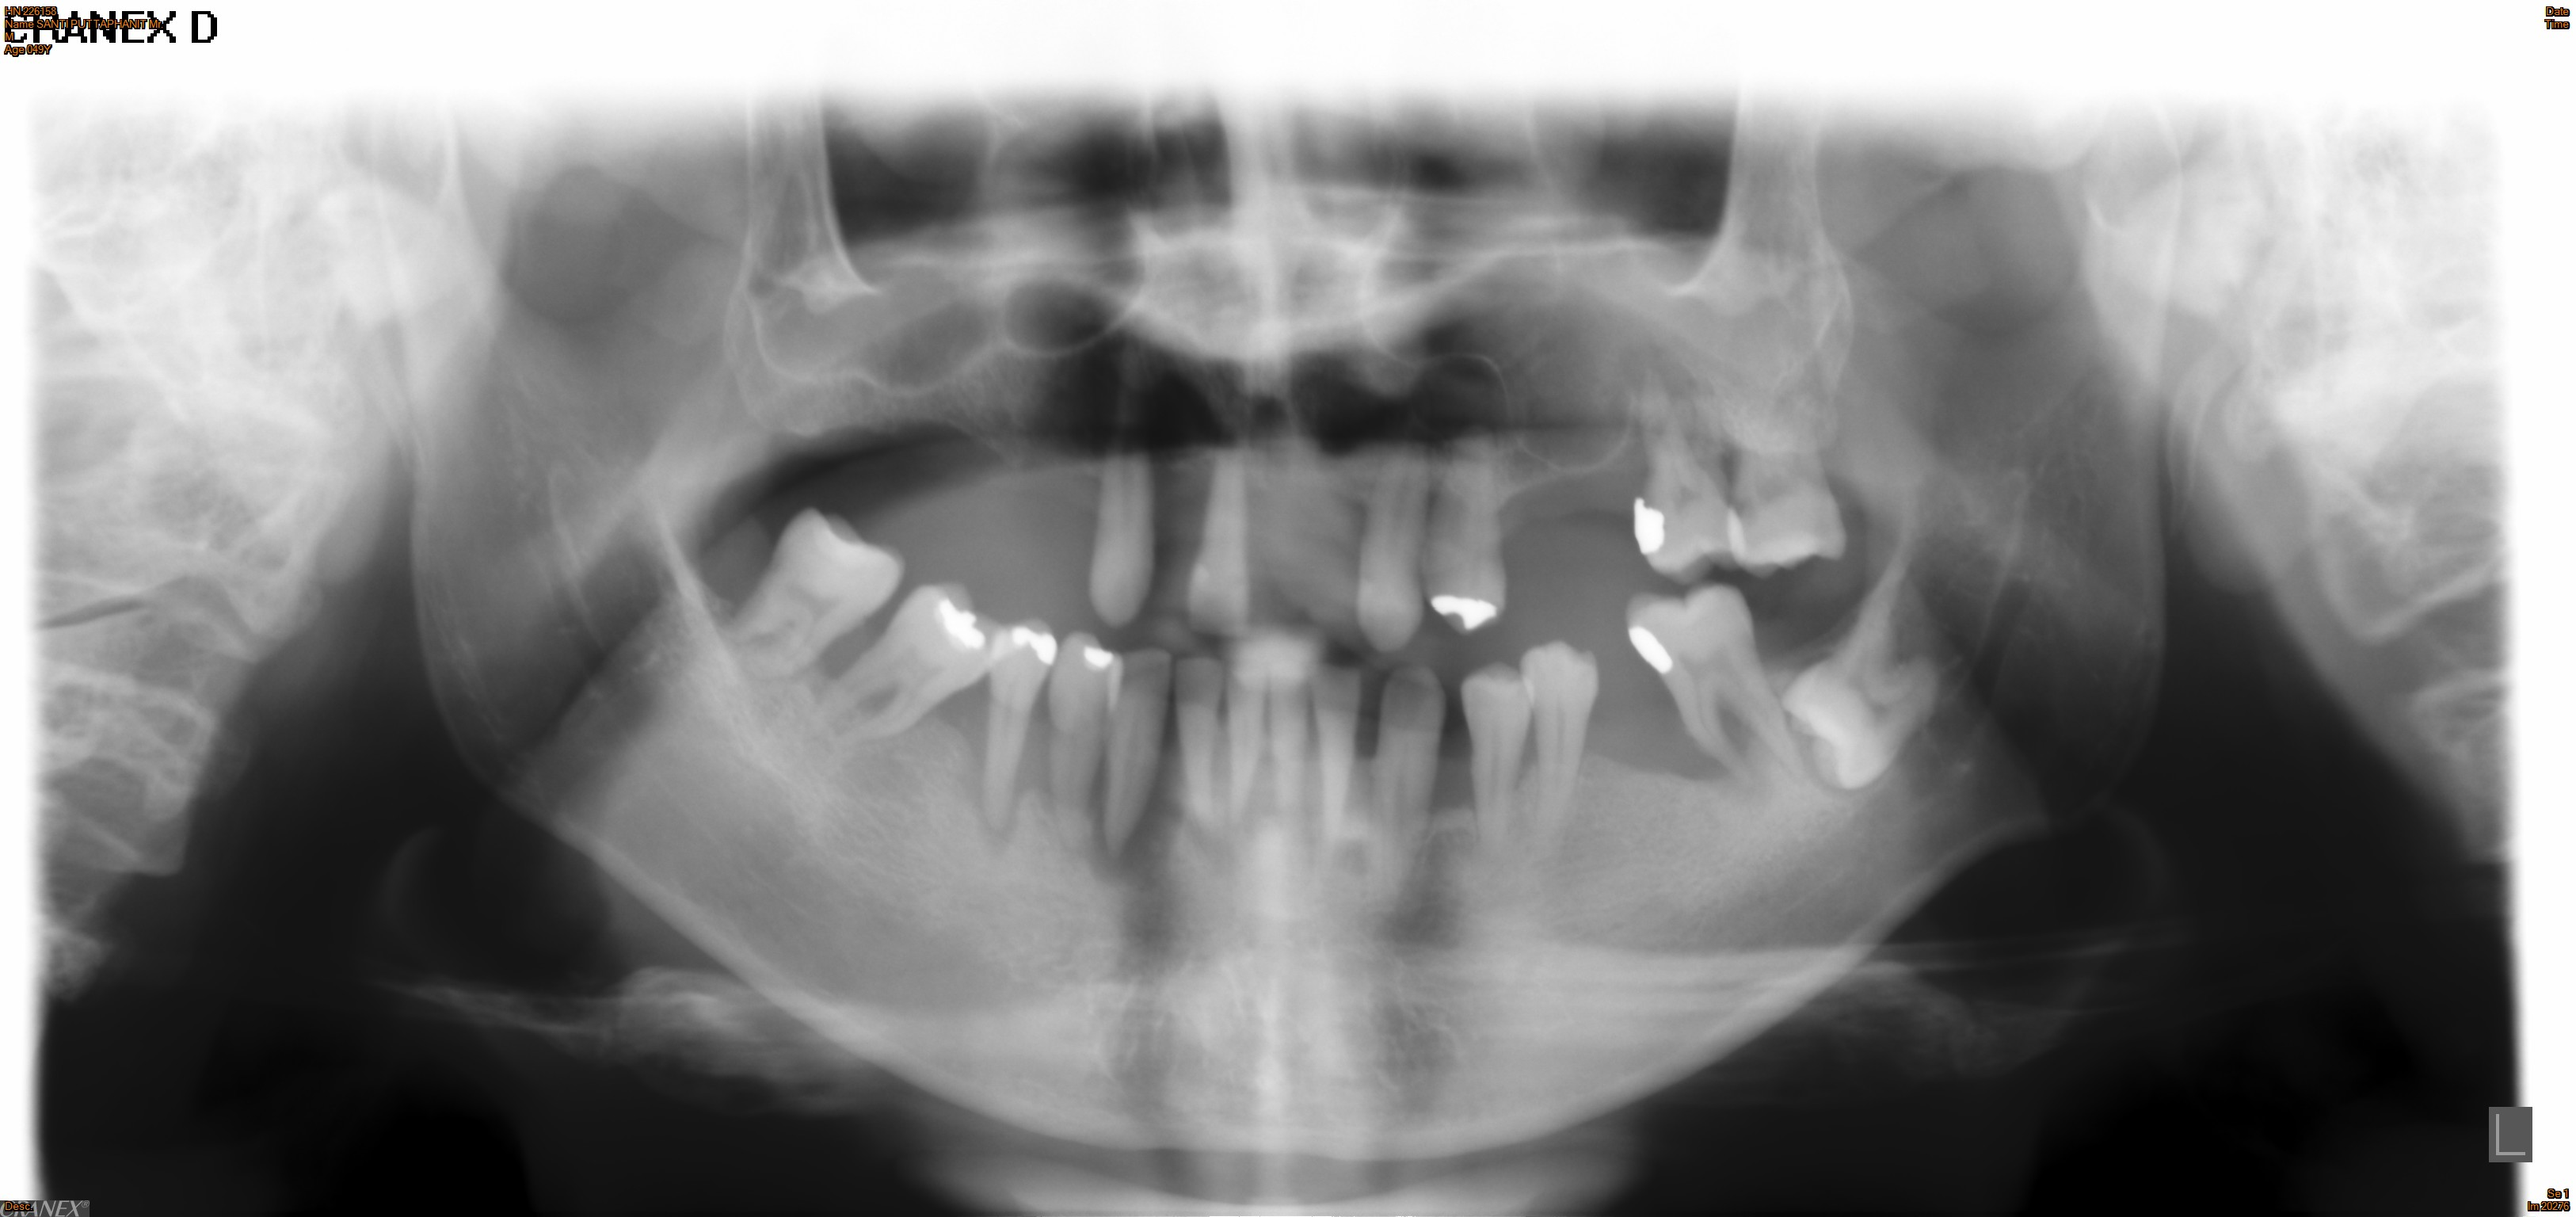periodontitis: (1617, 580, 1840, 795), (797, 576, 1024, 760), (1628, 378, 1764, 590), (959, 614, 1063, 849), (1426, 412, 1516, 642), (1349, 429, 1436, 660), (1097, 642, 1181, 869), (1456, 659, 1538, 882), (1079, 443, 1171, 634), (1043, 637, 1120, 839)
